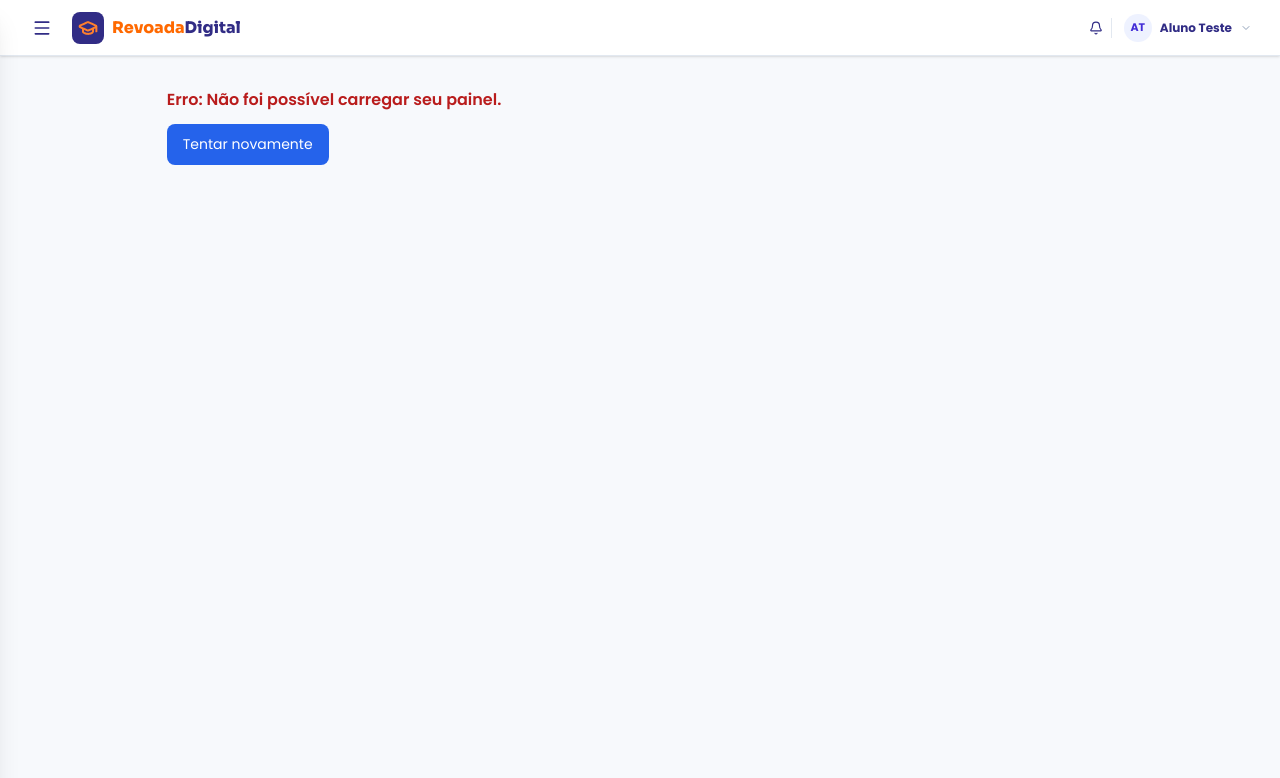
Test: Dashboard › exibe mensagem de erro e botão "Tentar novamente"; o retry recarrega com sucesso (R3.3)
Click the button "Tentar novamente": {"x": 248, "y": 144} [167, 124, 329, 165]
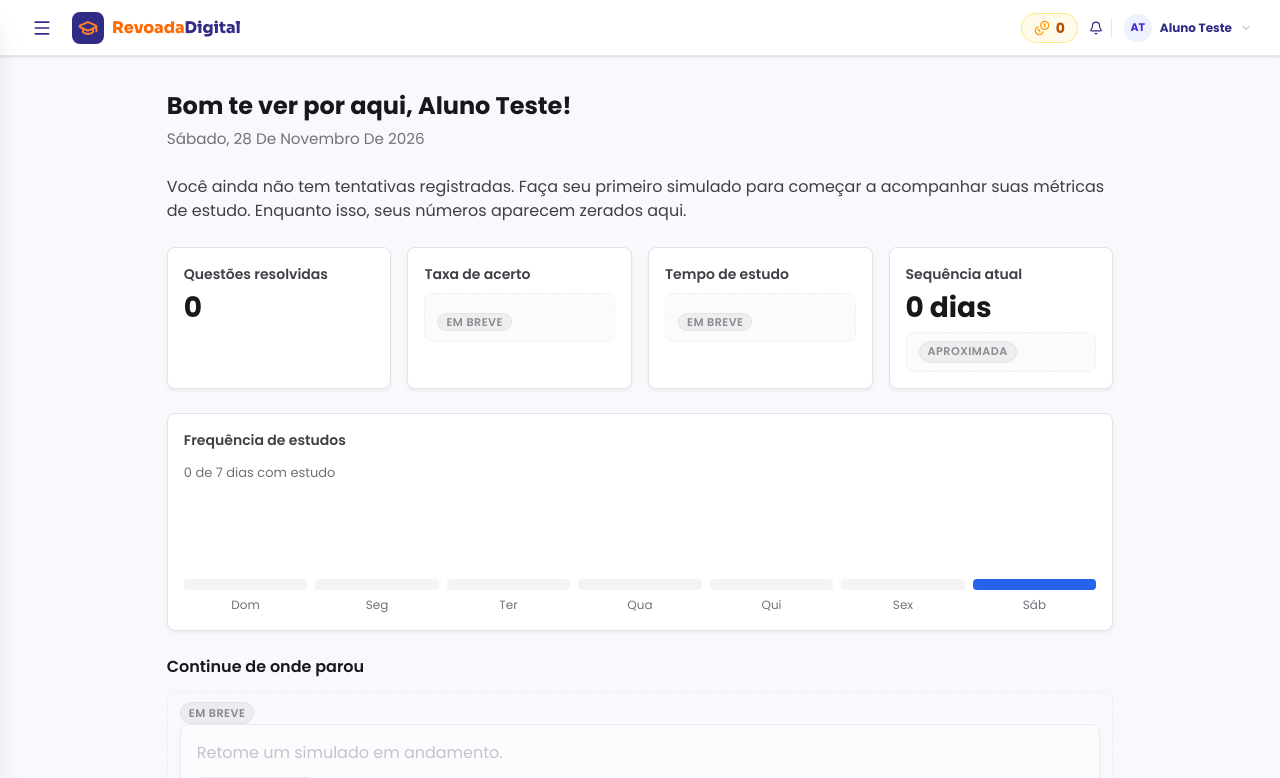
Result: the message "Erro: Não foi possível carregar seu painel." is gone
Result: the element named "Comece seu primeiro simulado" is shown at [167, 175, 1113, 223]
